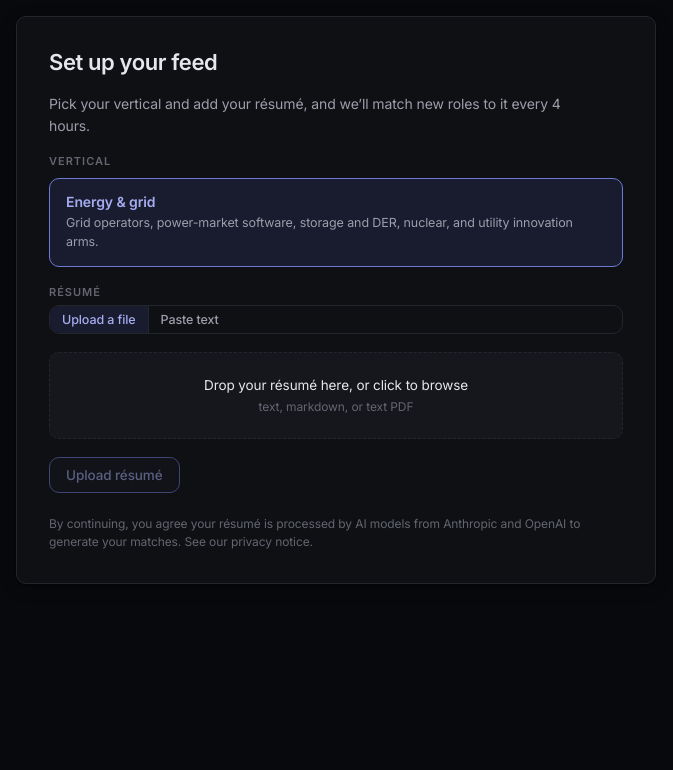
Test case: Upload › paste mode › starts in file mode and swaps the file input for a textarea when toggled
The image size is (673, 770).
Expected: the radio button labelled "Energy & grid" is shown, [49,178,623,267]
Expected: the file field named "résumé file" is shown, [204,377,468,414]
Click the button "Paste text".
click(190, 319)  # box [148,306,231,333]
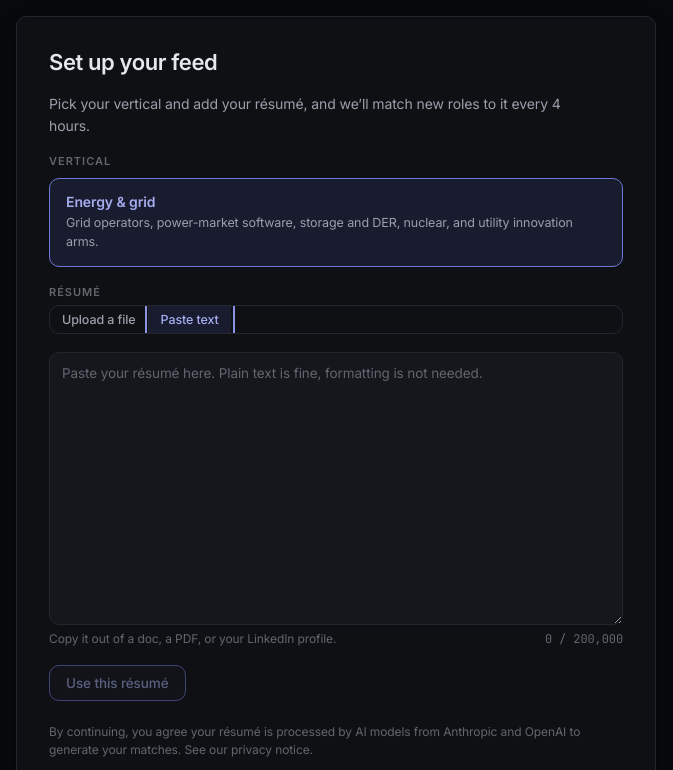
Result: the text box named "résumé text" is shown at [49,352,623,625]
